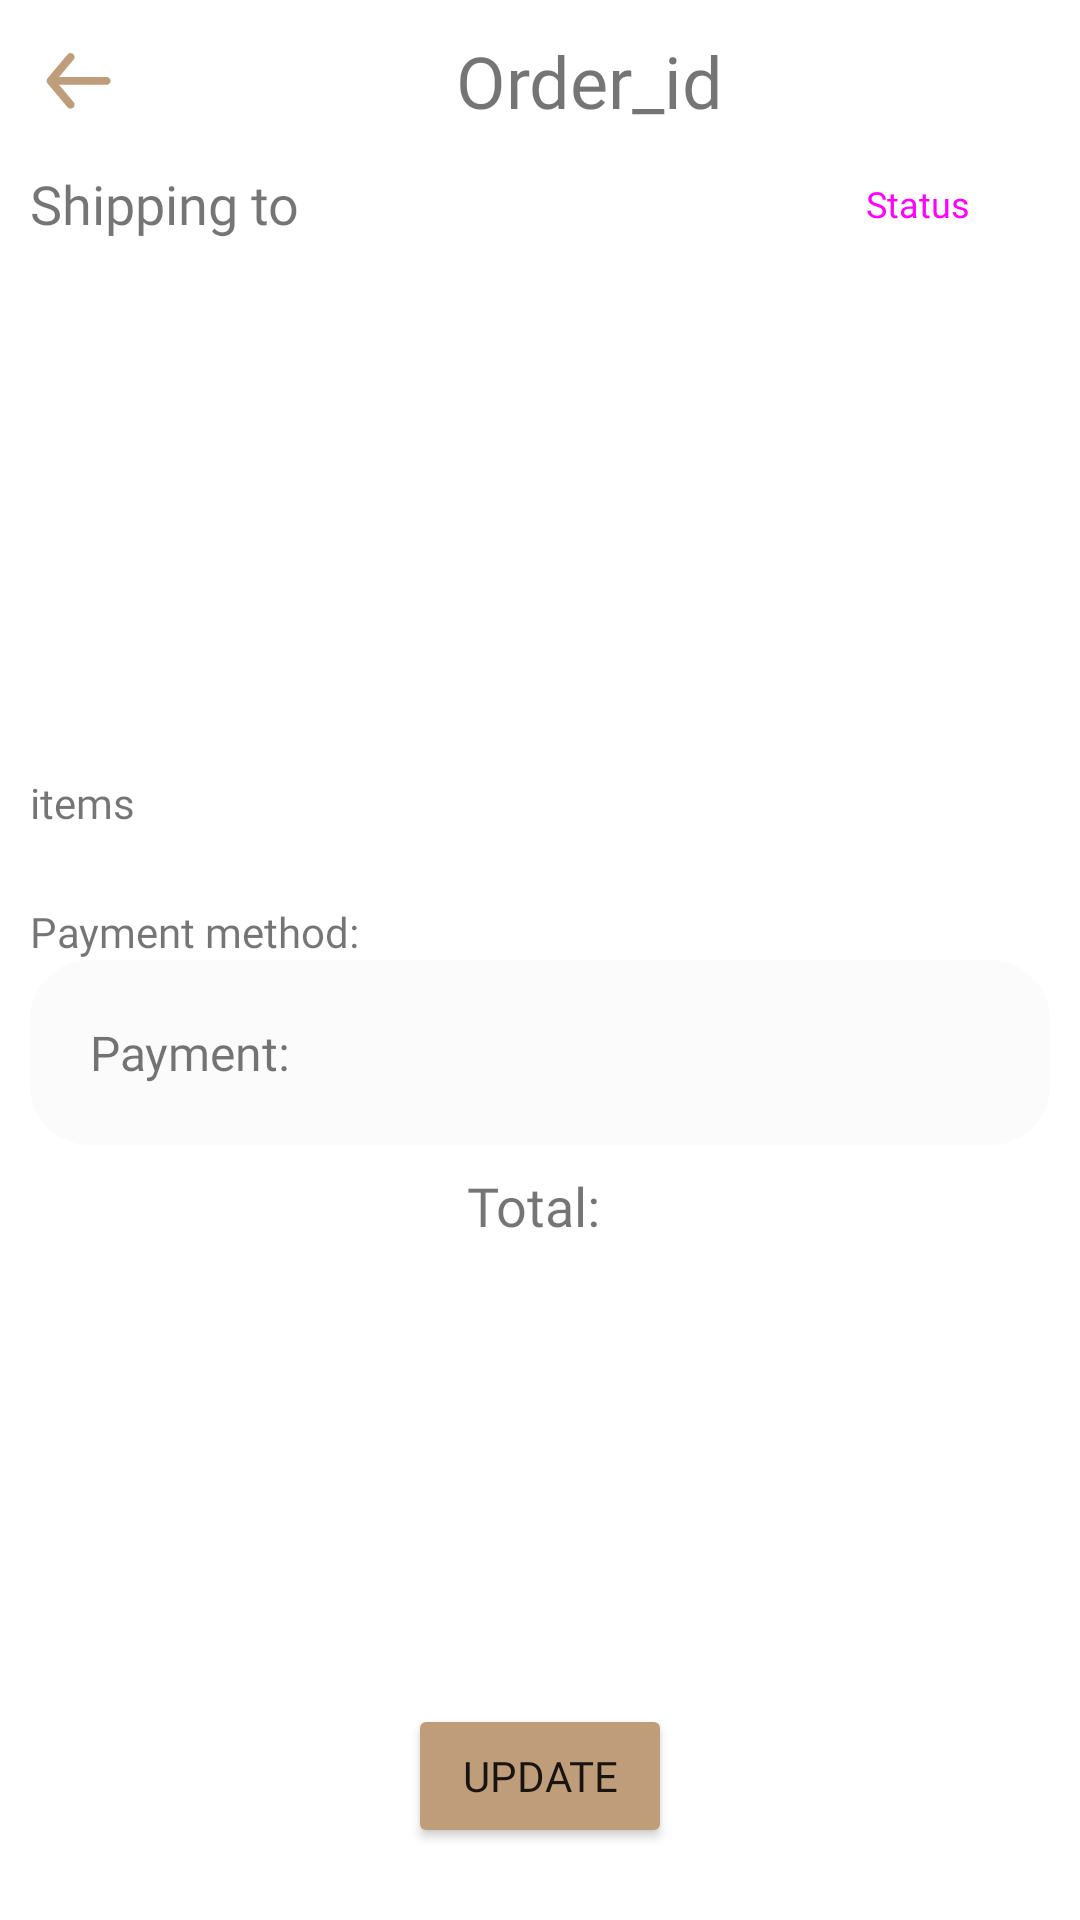

Where to tap for icons on this 1080x1920 app screen, as (x,y):
back: (78,81)
